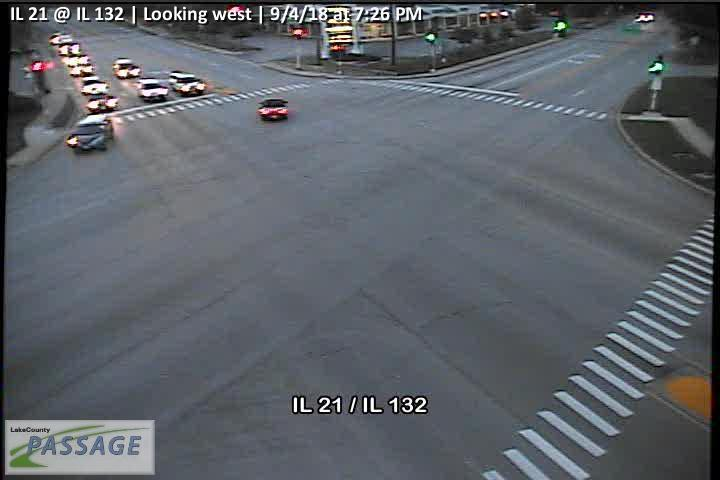SUV: (168, 70, 206, 96), (137, 78, 168, 103), (112, 57, 142, 80)
Sedan: (64, 111, 113, 152), (256, 98, 288, 119)
